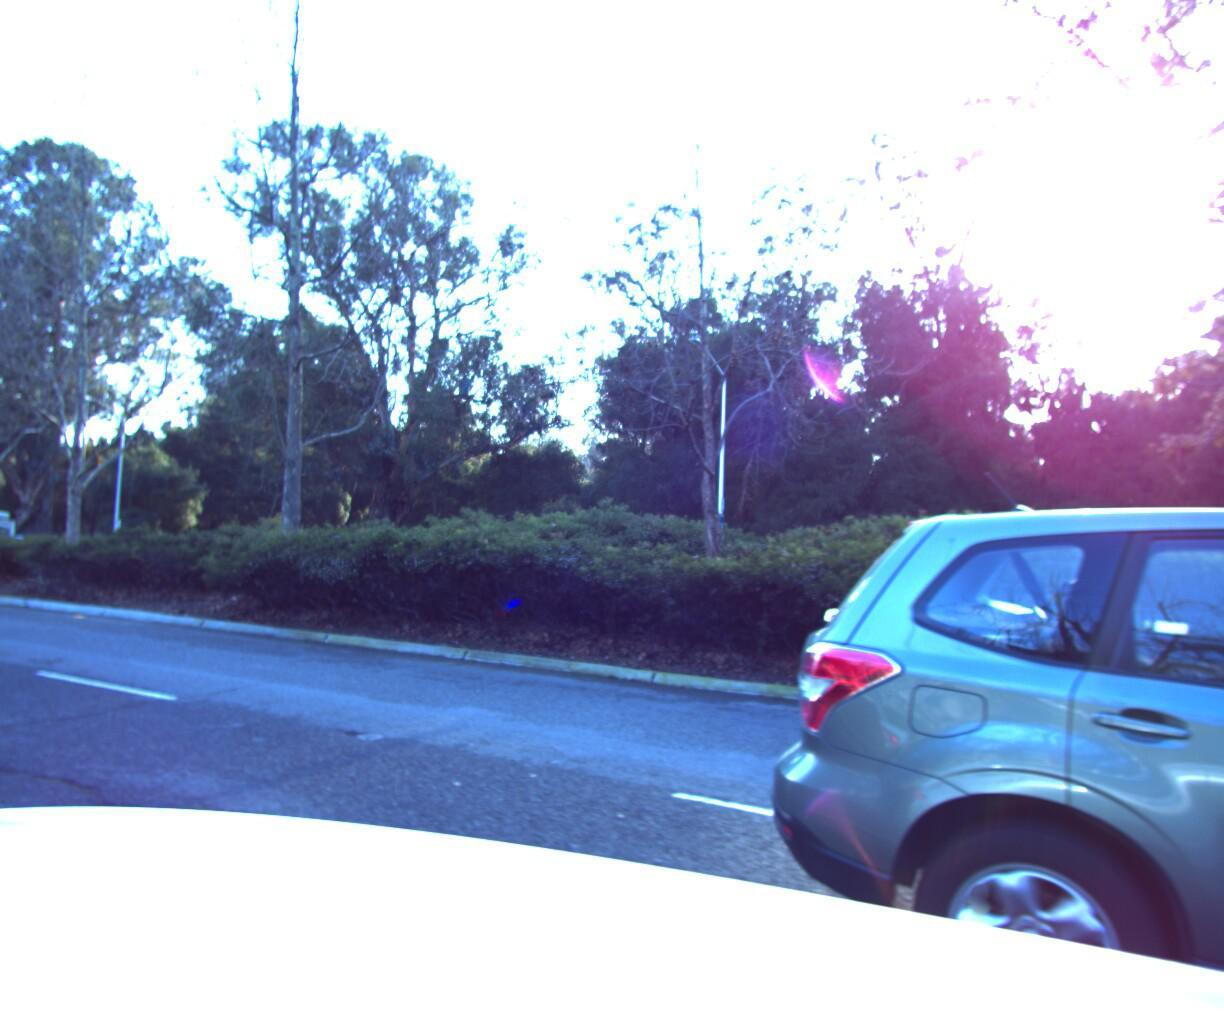car: (716, 470, 1224, 1024)
other_vehicle: (0, 500, 21, 552)
